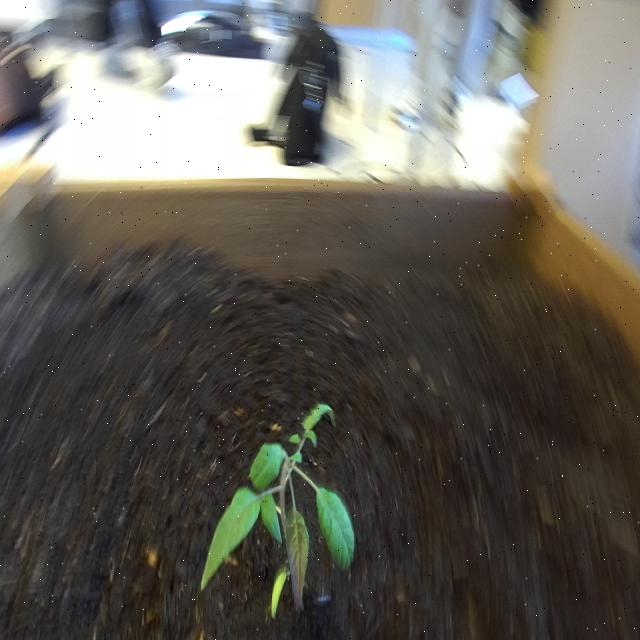Healthy: (192, 386, 376, 632)
